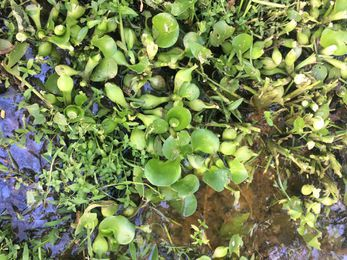water_hyacinth: (90, 12, 259, 211)
